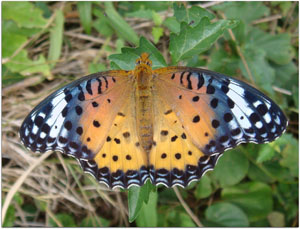Argyreus hyperbius: (16, 18, 290, 186)
butterfly: (18, 20, 292, 188)
